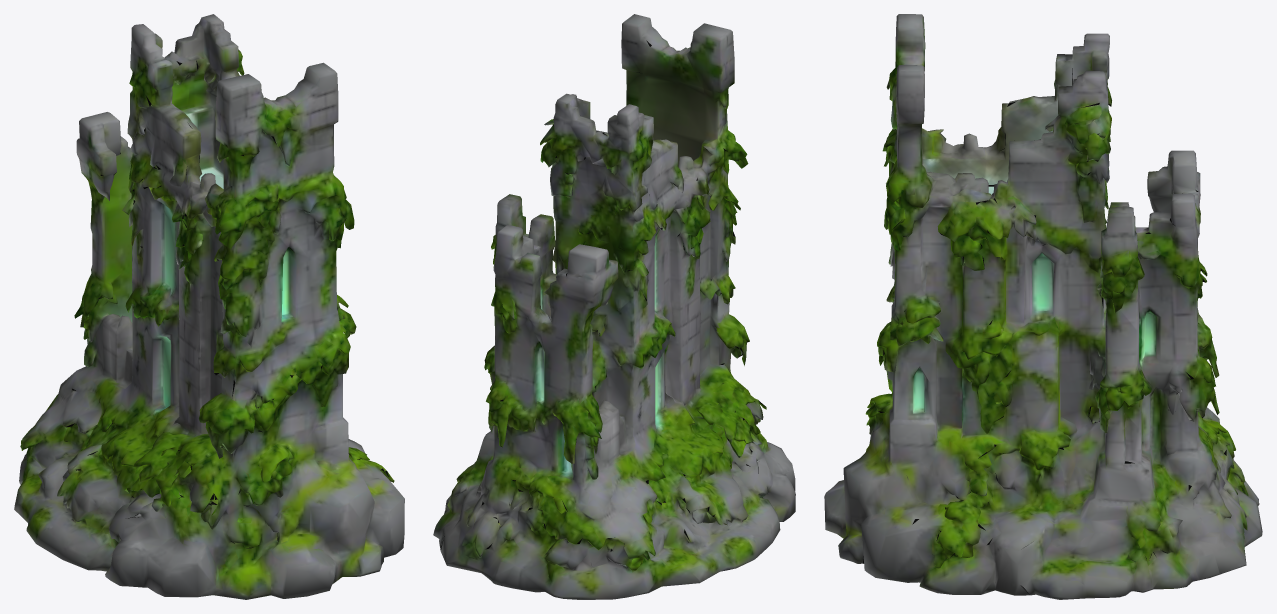
The model's file is landmark.glb.
The picture shows the model from 3 angles, left to right: view 1: azimuth 30°, elevation 25°; view 2: azimuth 150°, elevation 25°; view 3: azimuth 270°, elevation 25°; orthographic projection. The views are drawn at different scales.
Visible parts, largest first — view 1: landmark; view 2: landmark; view 3: landmark.
Boxes of the visible parts, box(x1,y1,x2,y2) form: landmark: box(14, 14, 404, 599); landmark: box(433, 14, 795, 599); landmark: box(824, 14, 1262, 599).
Bounding box in the file's own units: 23.61 × 34.97 × 28.5.
Materials: 1 (1 with a texture image).
